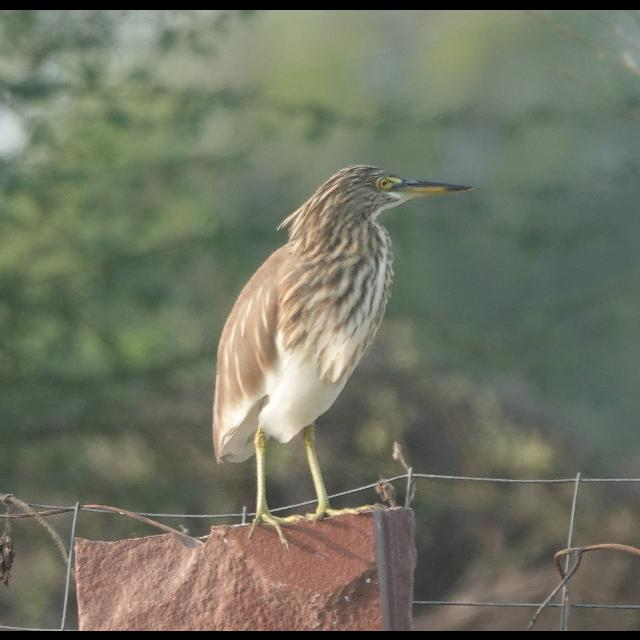heron: (208, 159, 468, 516)
